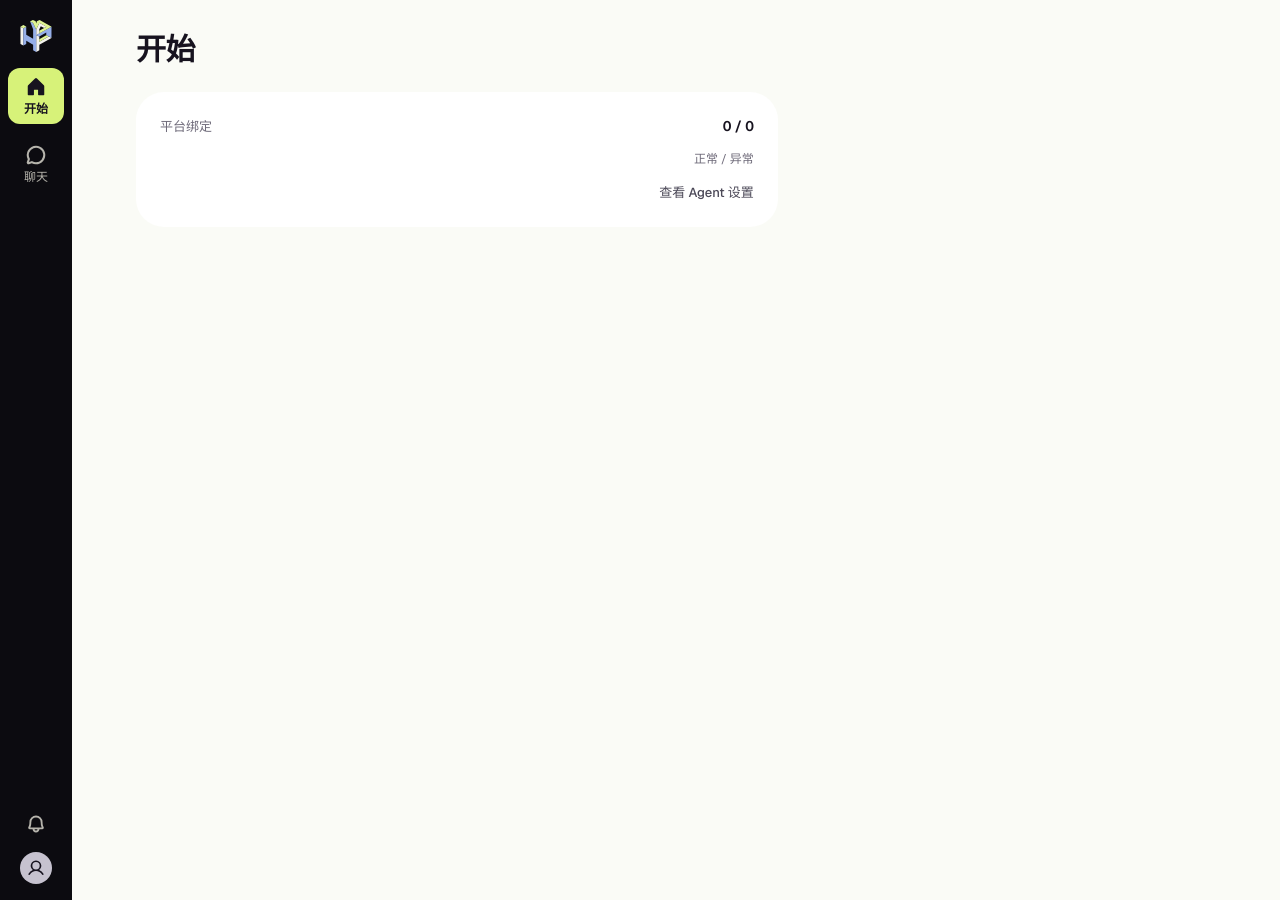
Test case: connections fixture page › renders the credential and platform modules that have a port
Click the button named "我的账号与 Agent 设置菜单".
click(36, 868)  # box [16,848,56,888]
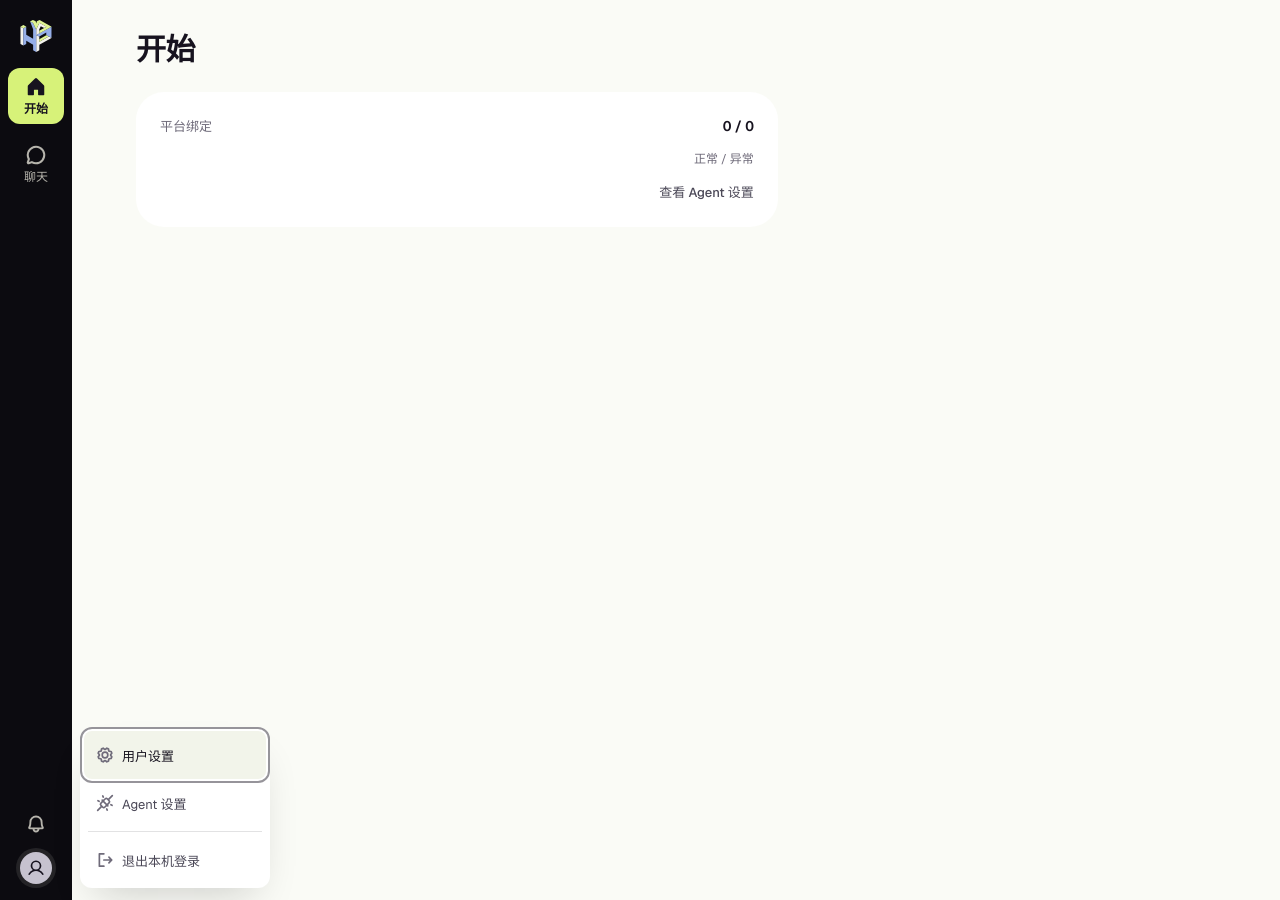
Click the menu item "Agent 设置".
click(175, 803)  # box [84,779,266,827]
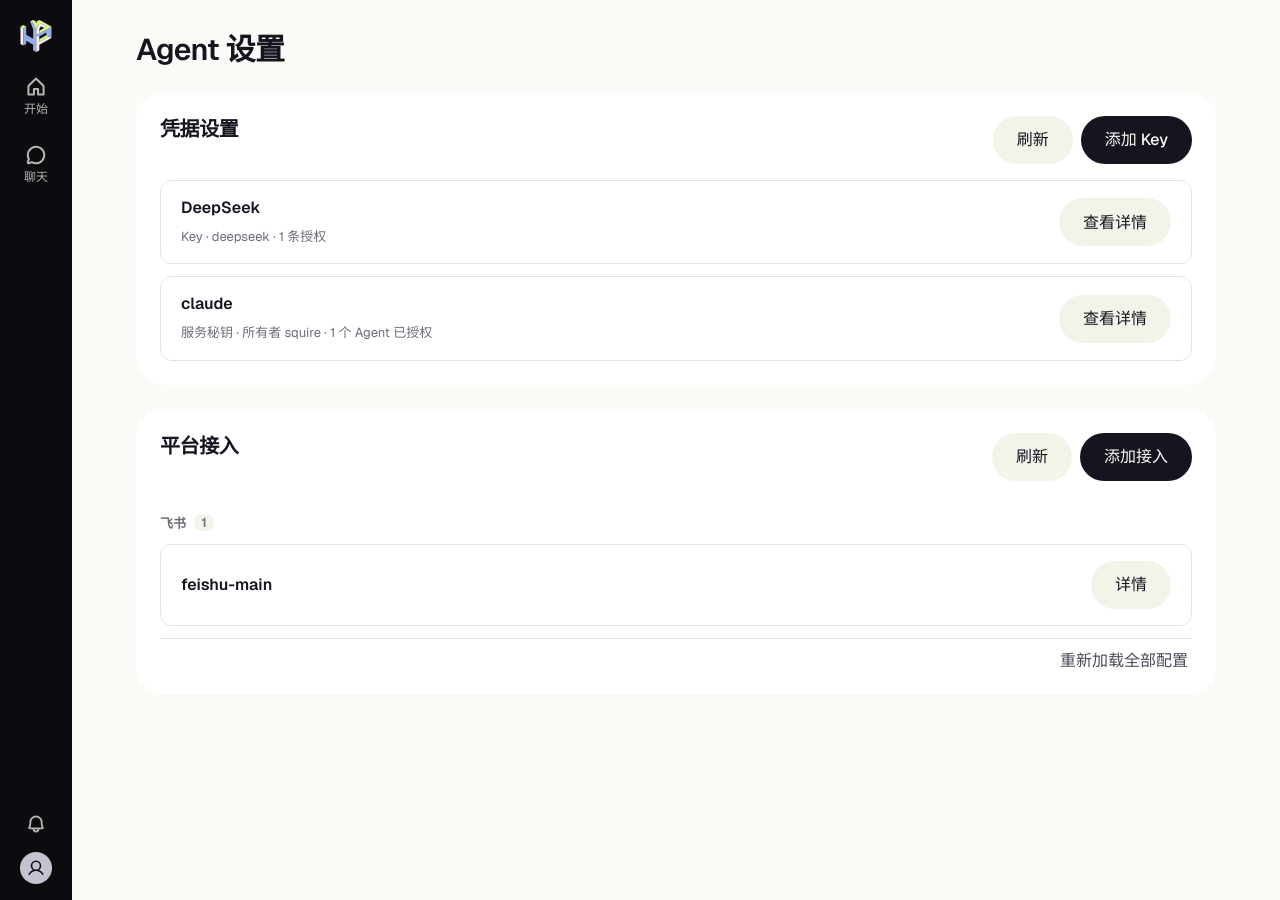
Expected: the heading "凭据设置" is shown, [160,116,238,143]
Expected: the heading "平台接入" is shown, [160,433,238,460]
Expected: the text "feishu-main" is shown, [181,574,272,595]
